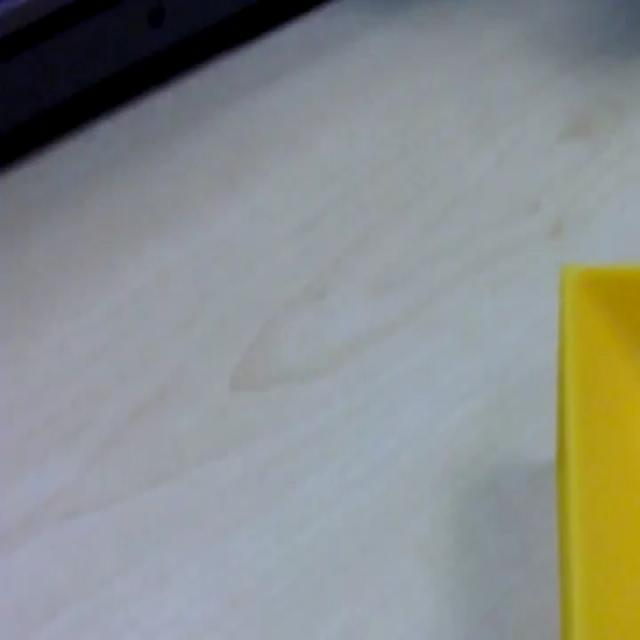yellow_block: (555, 259, 639, 637)
